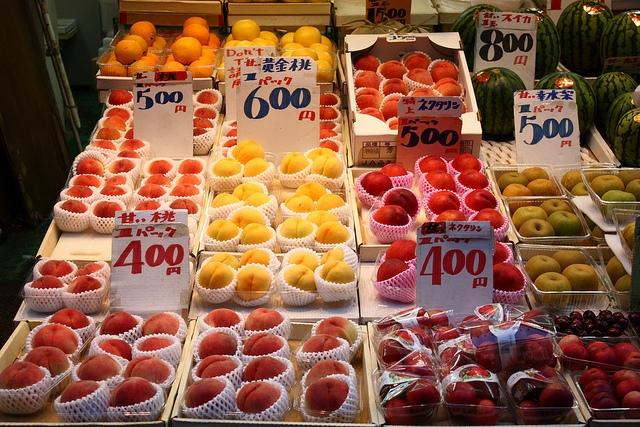apple: (534, 272, 572, 313), (560, 264, 599, 291), (524, 255, 560, 283), (512, 207, 548, 232), (547, 211, 581, 237), (551, 250, 586, 274), (590, 175, 625, 198), (498, 172, 530, 195), (518, 218, 554, 238), (540, 199, 572, 218), (526, 179, 556, 196), (615, 170, 640, 189), (521, 167, 549, 183), (561, 172, 583, 192), (502, 183, 532, 197), (601, 190, 636, 202), (621, 222, 635, 251), (606, 256, 626, 276), (624, 178, 640, 202), (592, 225, 616, 238), (614, 274, 632, 291), (571, 182, 588, 196)
cherry: (550, 304, 583, 322), (566, 304, 596, 322), (554, 318, 572, 330), (612, 324, 628, 336), (616, 317, 630, 330), (594, 320, 608, 332), (569, 322, 582, 334), (606, 328, 622, 337), (604, 314, 616, 326), (583, 324, 596, 334), (612, 312, 625, 321), (589, 330, 602, 337), (598, 310, 612, 316), (593, 316, 603, 324)
orange: (172, 37, 202, 66), (114, 40, 142, 65), (182, 24, 210, 46), (130, 22, 154, 47), (124, 34, 148, 56), (187, 60, 212, 78), (102, 61, 127, 78), (183, 16, 209, 32), (161, 61, 186, 71), (202, 50, 216, 64), (148, 46, 162, 59), (154, 36, 166, 49), (210, 33, 220, 48), (198, 56, 212, 65), (151, 42, 164, 50)
peach: (0, 362, 51, 414), (185, 378, 233, 420), (304, 378, 350, 419), (24, 275, 68, 312), (22, 346, 70, 377), (236, 381, 281, 414), (110, 377, 157, 408), (32, 324, 78, 354), (124, 355, 170, 384), (316, 316, 358, 347), (304, 360, 350, 388), (77, 353, 121, 382), (236, 266, 272, 301), (241, 356, 287, 383), (198, 332, 238, 360), (384, 188, 418, 218), (242, 332, 284, 356), (196, 354, 238, 378), (198, 262, 234, 290), (244, 308, 284, 332), (100, 311, 138, 336), (60, 380, 101, 403), (493, 262, 524, 292), (284, 264, 316, 293), (142, 312, 180, 336), (49, 308, 90, 330), (316, 220, 350, 245), (320, 260, 355, 284), (232, 140, 264, 166), (360, 171, 392, 197), (373, 204, 409, 227), (428, 190, 461, 215), (300, 334, 342, 353), (311, 156, 344, 180), (376, 258, 409, 282), (280, 216, 314, 239), (240, 222, 272, 246), (98, 339, 132, 361), (203, 308, 240, 328), (385, 239, 417, 262), (231, 208, 265, 229), (466, 189, 496, 212), (472, 208, 504, 229), (425, 170, 455, 192), (280, 152, 310, 174), (458, 169, 489, 190), (66, 276, 102, 294), (232, 182, 264, 202), (208, 252, 240, 272), (295, 182, 327, 202), (431, 61, 458, 84), (356, 88, 384, 110), (212, 157, 241, 178), (240, 248, 270, 268), (288, 252, 318, 272), (76, 158, 105, 178), (354, 70, 382, 90), (284, 195, 315, 213), (452, 153, 481, 172), (244, 157, 270, 178), (379, 60, 406, 80), (139, 337, 174, 352), (433, 78, 462, 96), (419, 155, 446, 174), (316, 194, 346, 211), (404, 53, 432, 71), (382, 96, 402, 121), (354, 54, 379, 74), (168, 198, 198, 214), (406, 68, 434, 85), (212, 192, 240, 209), (383, 78, 409, 96), (94, 202, 122, 218), (170, 183, 200, 197), (360, 107, 386, 123), (244, 192, 270, 208), (102, 115, 126, 132), (492, 241, 508, 266), (380, 163, 408, 177), (138, 184, 166, 198), (73, 174, 101, 188), (145, 174, 171, 189), (108, 159, 134, 174), (109, 90, 133, 106), (95, 127, 122, 141), (106, 108, 130, 123), (436, 210, 466, 222), (61, 200, 88, 213), (147, 160, 172, 174), (178, 160, 202, 174), (76, 264, 103, 276), (120, 139, 145, 151), (134, 200, 161, 211), (100, 185, 126, 196), (178, 174, 201, 186), (104, 175, 126, 187), (194, 108, 216, 120), (90, 140, 116, 150), (320, 107, 338, 121), (198, 92, 218, 104), (319, 140, 339, 152), (411, 87, 436, 96), (194, 118, 214, 129), (320, 128, 338, 140), (117, 151, 141, 159), (320, 121, 336, 131), (223, 138, 237, 148), (193, 128, 208, 137), (226, 129, 237, 137)
watermelon: (556, 0, 614, 73), (533, 71, 597, 136), (471, 67, 527, 135), (450, 4, 503, 73), (512, 8, 562, 80), (591, 72, 637, 140), (599, 10, 640, 67), (605, 90, 636, 148), (614, 107, 640, 168)
